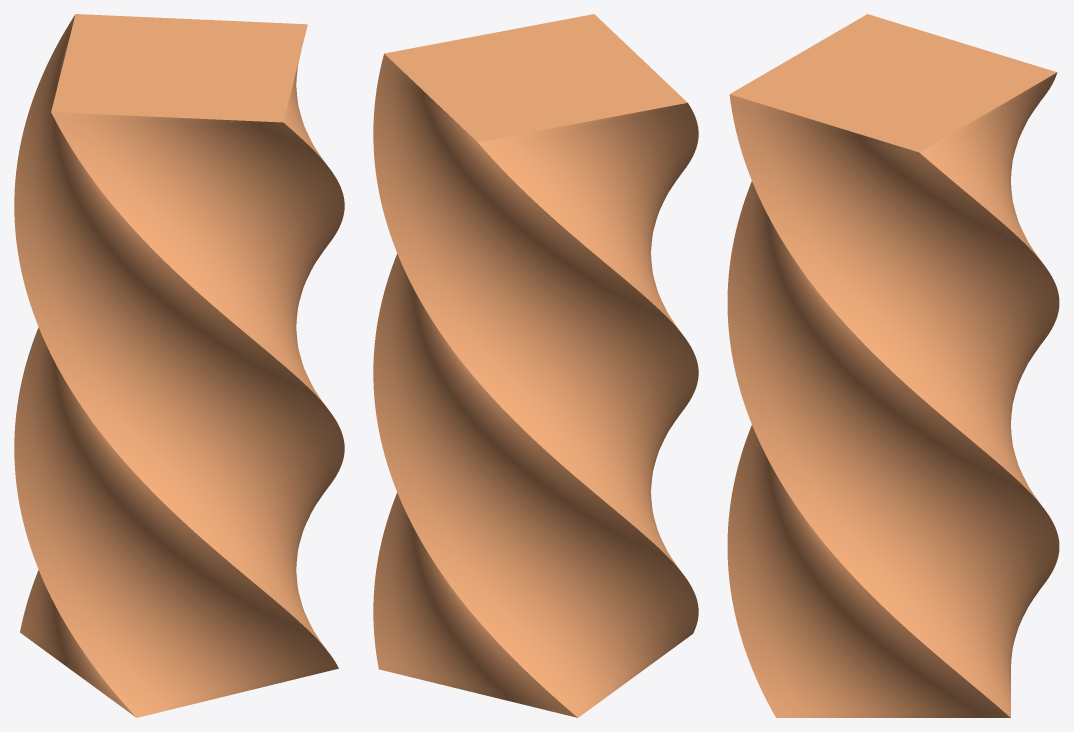
File: twisted-prism.glb
3 renders of one model, left to right at view 1: azimuth 30°, elevation 25°; view 2: azimuth 150°, elevation 25°; view 3: azimuth 270°, elevation 25°, orthographic. The views are drawn at different scales.
Parts seen in each view (by area): view 1: twisted-prism; view 2: twisted-prism; view 3: twisted-prism.
Part boxes in pixels (left/top/right/bottom): twisted-prism: left=14, top=14, right=344, bottom=717; twisted-prism: left=373, top=14, right=698, bottom=717; twisted-prism: left=727, top=14, right=1059, bottom=717.
Bounding box in the file's own units: 1.13 × 2.2 × 1.13.
